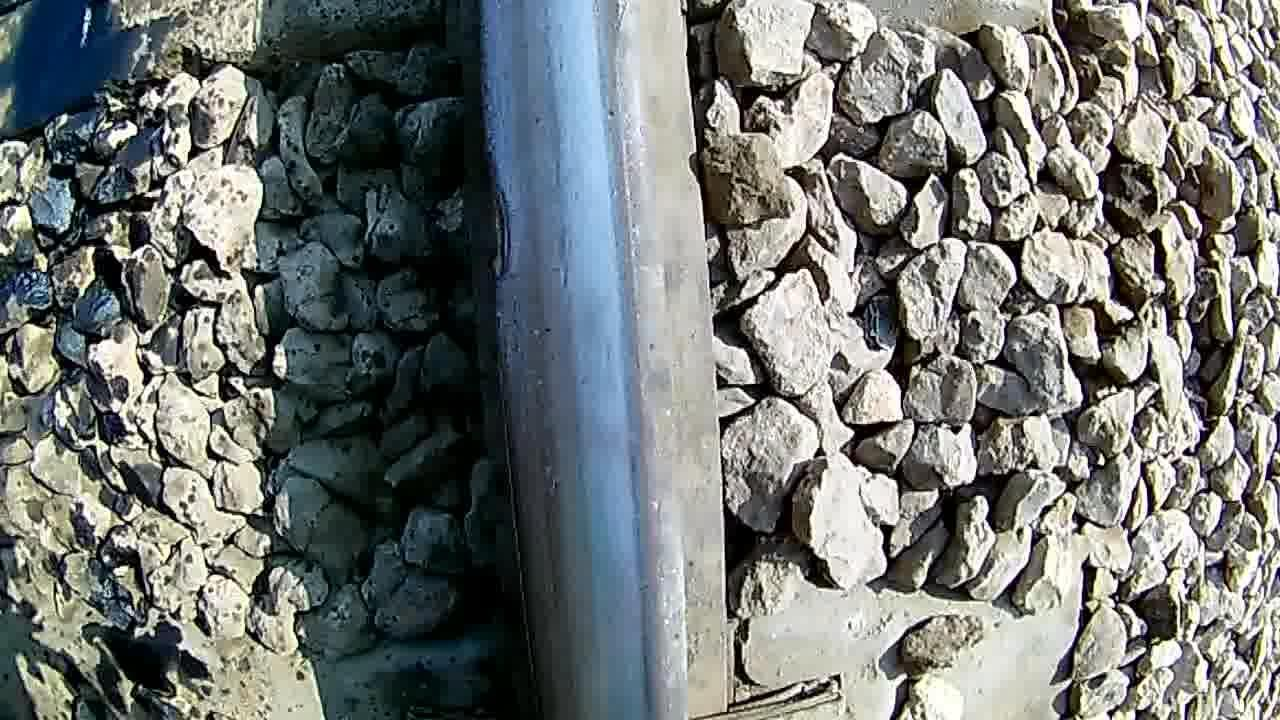crack: (494, 0, 699, 720)
